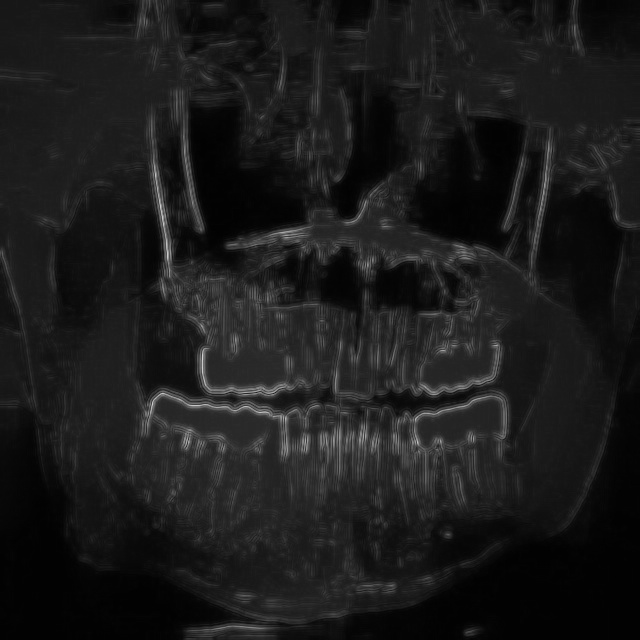Class 0- No endodontic treatment: (242, 276, 284, 353), (210, 270, 237, 356)
Class 1- complete endodontic treatment: (439, 432, 483, 520), (217, 440, 262, 526)
Class 2- incomplete endodontic treatment: (132, 399, 185, 511), (180, 424, 228, 522)
cavity: (284, 404, 413, 526)
